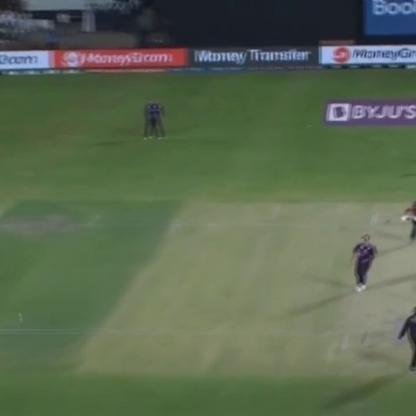ball: (11, 310, 26, 325)
pitch: (345, 198, 415, 377)
